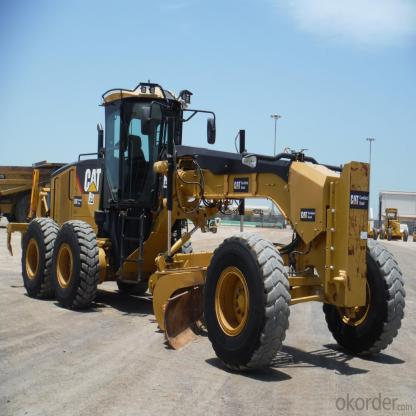bull_dozer/loader/grader: (19, 79, 401, 382)
